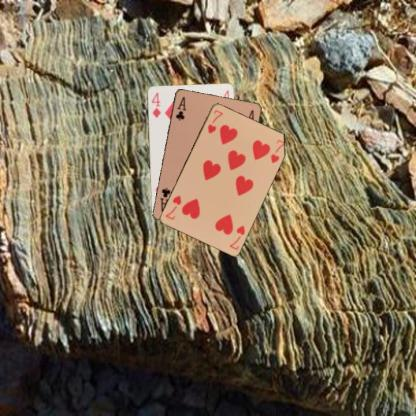4d: (149, 90, 162, 119)
7h: (227, 222, 246, 251), (205, 107, 224, 135)
Ac: (173, 94, 187, 121)
